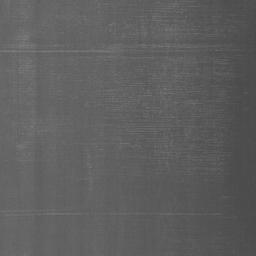Waist folding: (92, 88, 219, 154), (0, 39, 233, 60), (0, 208, 221, 217), (26, 14, 131, 27), (153, 0, 207, 22), (161, 69, 229, 77), (195, 162, 222, 171), (245, 91, 256, 111)
